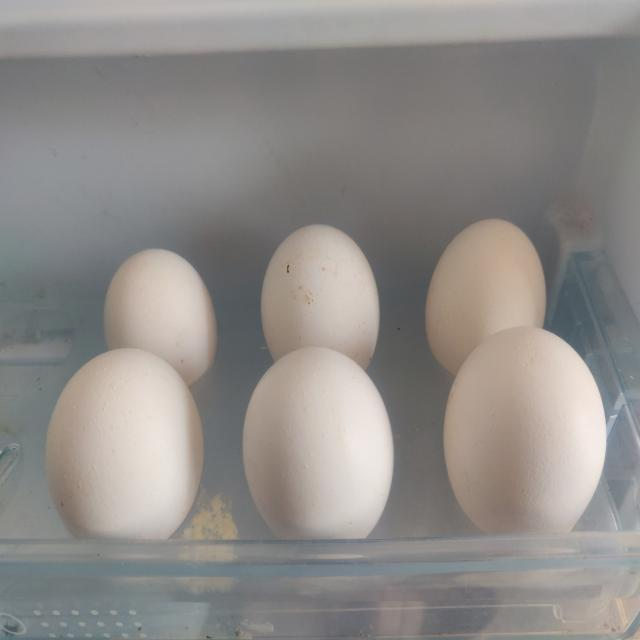Egg: (442, 326, 608, 537), (43, 342, 206, 544), (241, 344, 396, 542), (424, 219, 548, 378), (259, 224, 381, 371), (102, 248, 219, 389)
